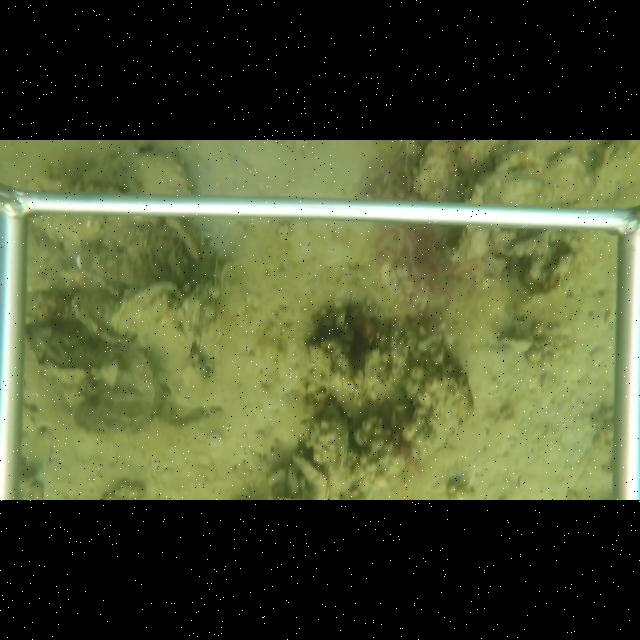Oyster-Open: (82, 305, 135, 344)
